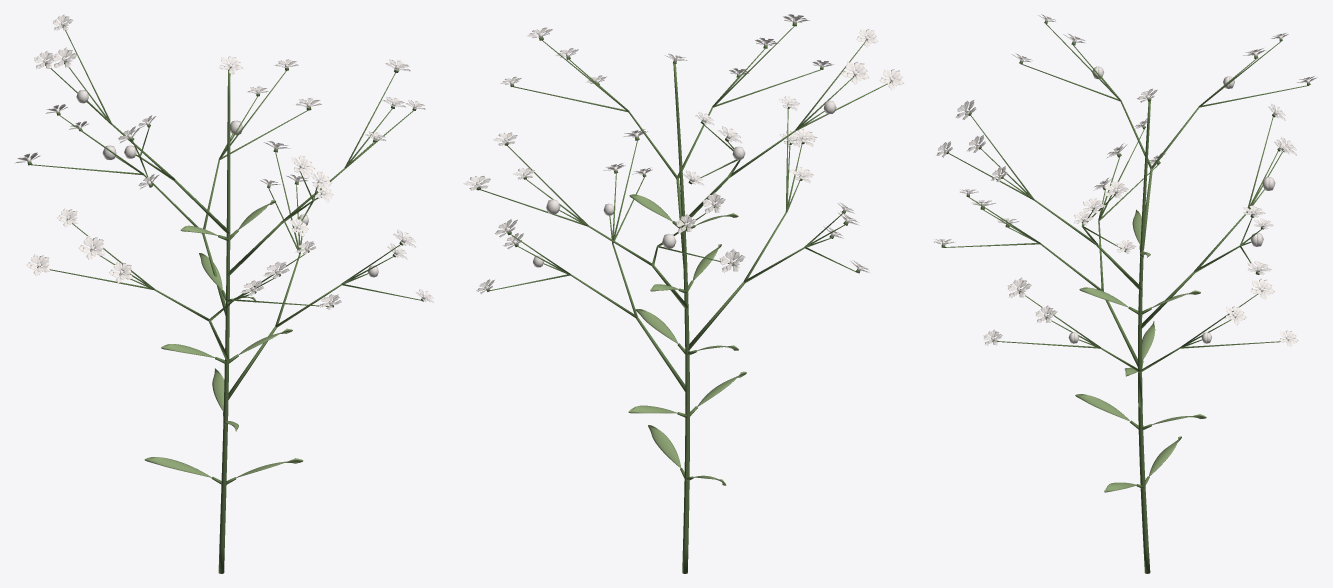
The model's file is gypsophila-epic-v2.glb.
3 views of the same model, side by side, from view 1: azimuth 30°, elevation 25°; view 2: azimuth 150°, elevation 25°; view 3: azimuth 270°, elevation 25° (orthographic). The views are drawn at different scales.
Visible parts, largest first — view 1: gypsophila-epic-v2-stem, gypsophila-epic-v2-petal, gypsophila-epic-v2-leaf; view 2: gypsophila-epic-v2-stem, gypsophila-epic-v2-petal, gypsophila-epic-v2-leaf; view 3: gypsophila-epic-v2-stem, gypsophila-epic-v2-petal, gypsophila-epic-v2-leaf.
Boxes of the visible parts, <box> form: gypsophila-epic-v2-stem: <box>27,26,423,573</box>; gypsophila-epic-v2-petal: <box>14,14,433,309</box>; gypsophila-epic-v2-leaf: <box>144,200,303,477</box>; gypsophila-epic-v2-stem: <box>476,22,890,573</box>; gypsophila-epic-v2-petal: <box>463,14,903,293</box>; gypsophila-epic-v2-leaf: <box>628,194,746,485</box>; gypsophila-epic-v2-stem: <box>941,21,1310,573</box>; gypsophila-epic-v2-petal: <box>934,14,1318,346</box>; gypsophila-epic-v2-leaf: <box>1075,209,1206,492</box>.
Size of the model in its own units: 1.36 by 1.8 by 1.26.
